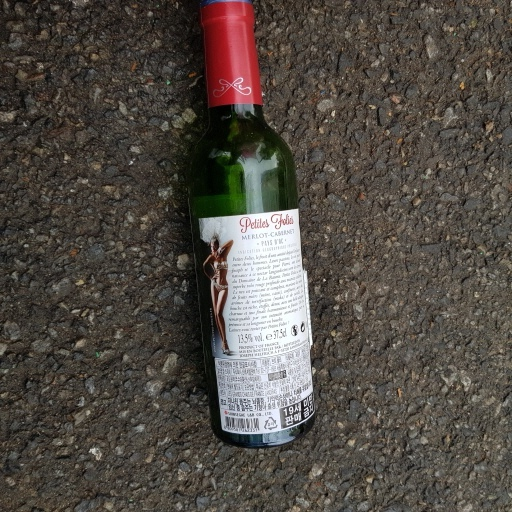Glass_2: (179, 1, 321, 450)
